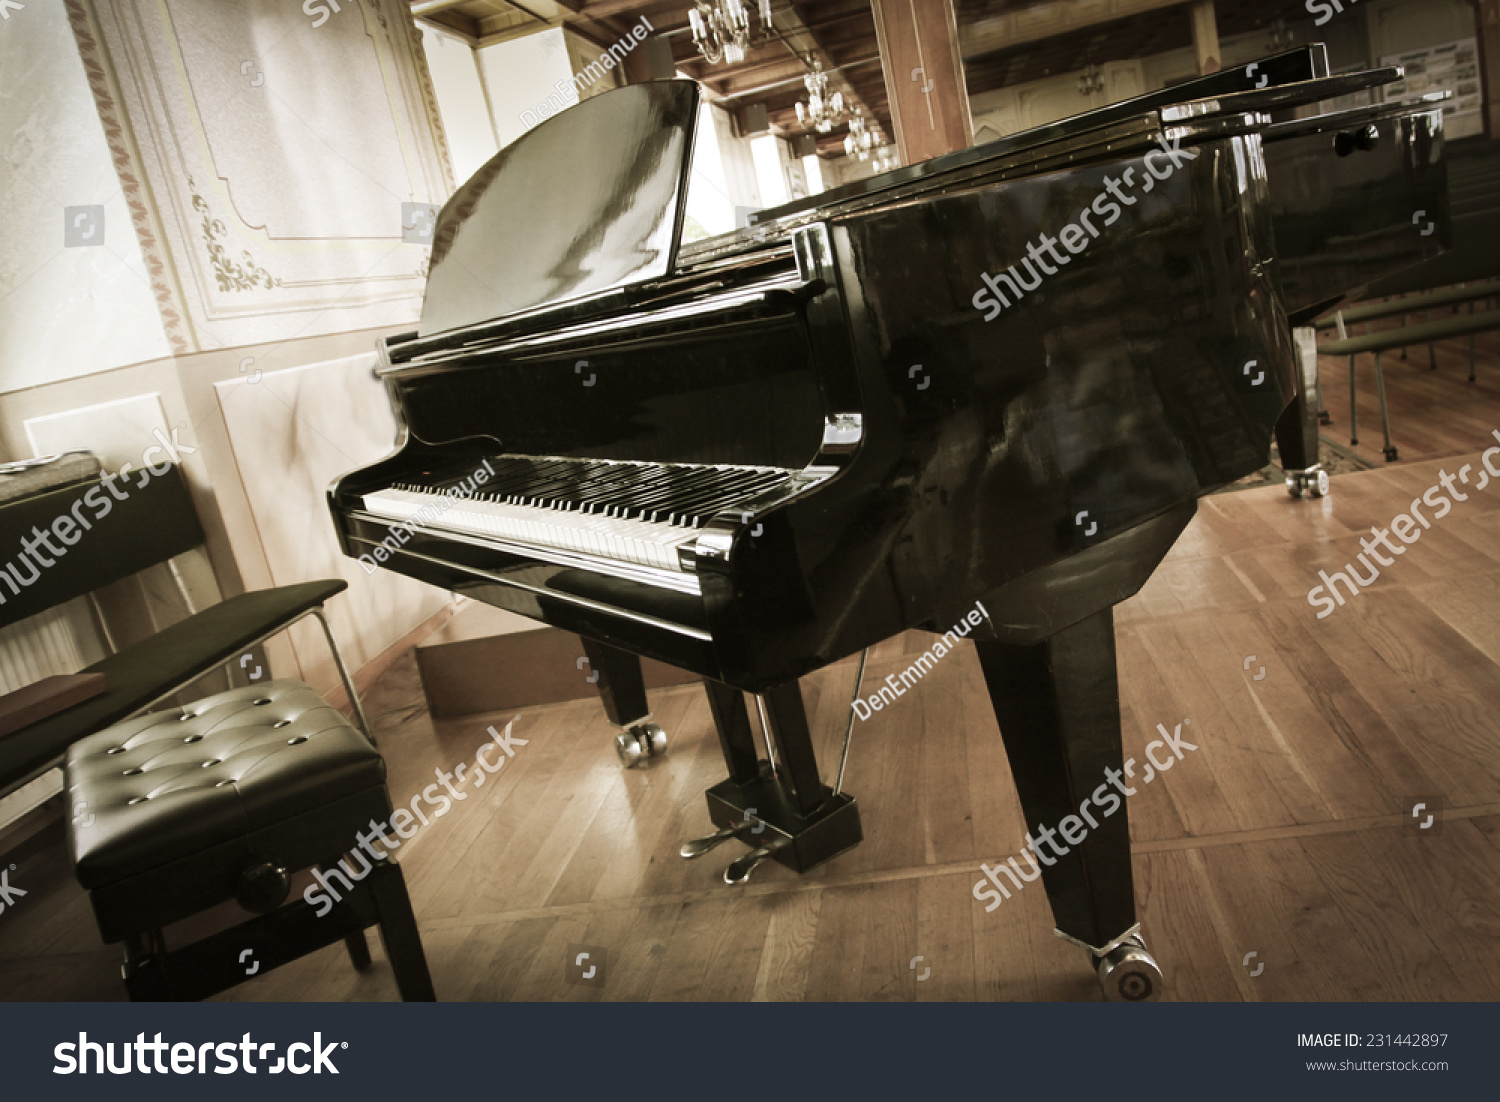Piano: (292, 1, 1425, 999)
